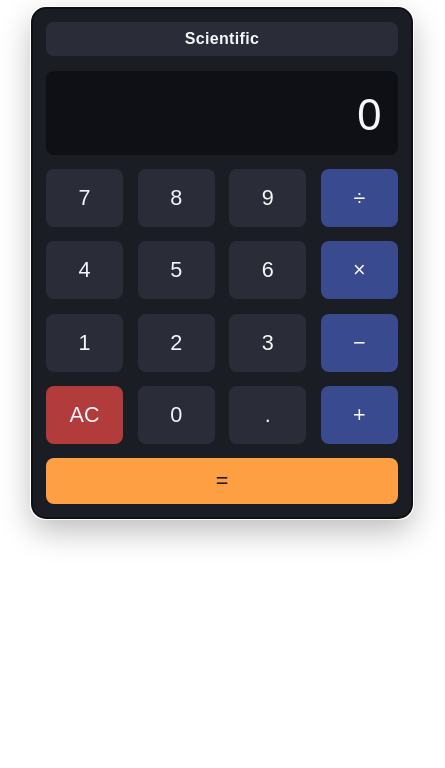
Test: REQ-8 / REQ-9: Basic/Scientific mode toggle (step 6) › clicking it reveals the scientific panel and clicking again hides it
Check: the button "sin" is not shown
Click the button "Scientific" at (222, 39), box [46,22,398,56]
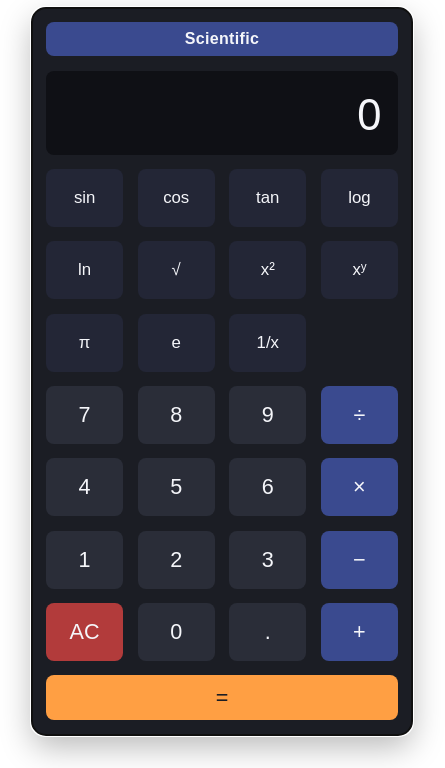
Check: the button "sin" is shown, box [46,169,123,227]
Click the button "Scientific" at (222, 39), box [46,22,398,56]
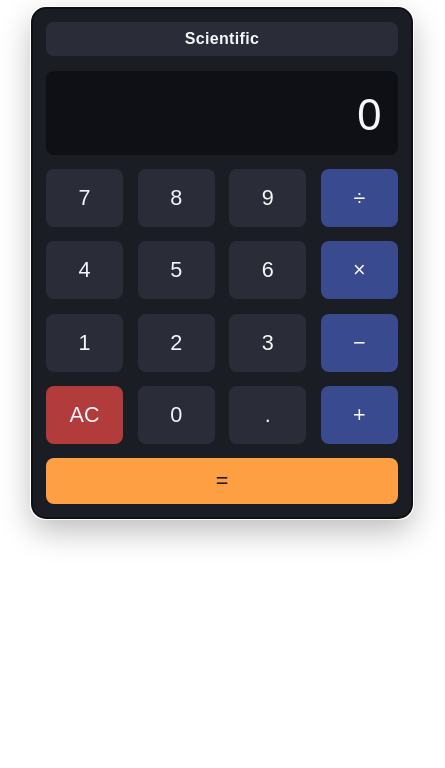
Check: the button "sin" is gone
